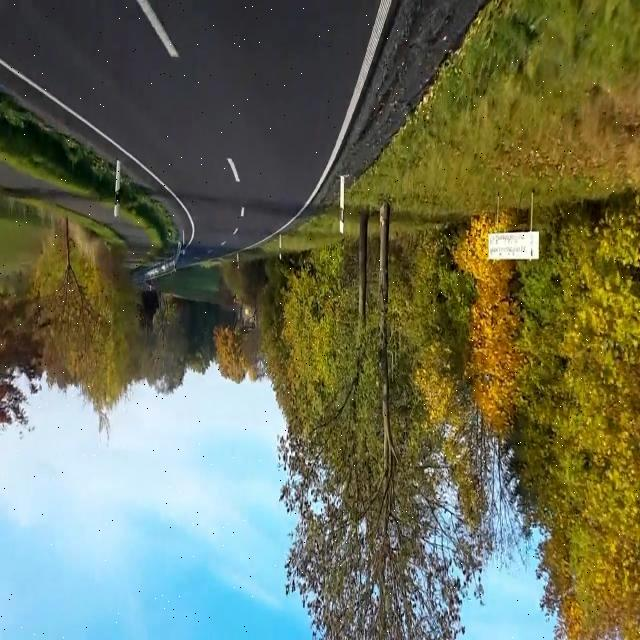lane: (0, 58, 195, 246), (249, 1, 392, 248), (136, 1, 178, 58), (226, 158, 239, 182)
road: (0, 1, 379, 264)
